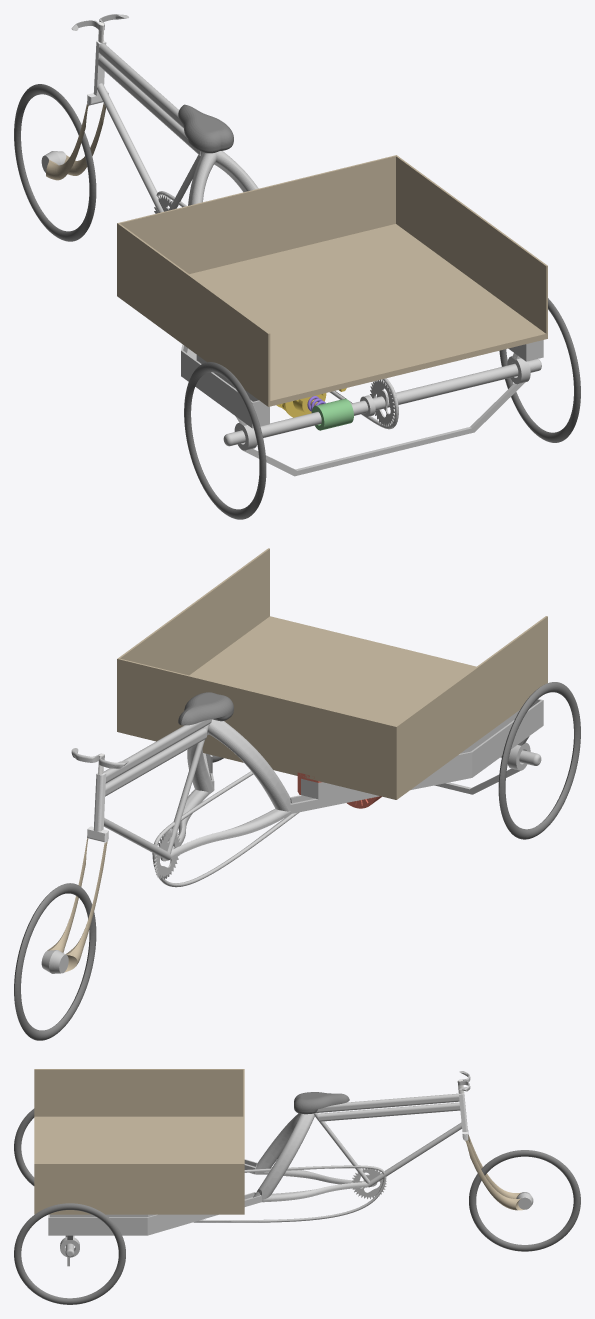
Rendered from direct-motor-drive.glb.
The picture shows the model from 3 angles, top to bottom: view 1: azimuth 30°, elevation 25°; view 2: azimuth 150°, elevation 25°; view 3: azimuth 270°, elevation 25°; orthographic projection. The views are drawn at different scales.
Parts seen in each view (by area): view 1: Node4, Node1, Node2, Node3, Node7; view 2: Node4, Node1, Node2, Node3, Node5; view 3: Node4, Node1, Node2, Node3.
Part boxes in pixels (x1,y1,x2,y2): Node4: [46, 103, 547, 406]; Node1: [41, 14, 543, 446]; Node2: [14, 84, 580, 519]; Node3: [156, 191, 530, 476]; Node7: [311, 398, 353, 430]; Node4: [47, 548, 547, 972]; Node1: [41, 719, 543, 973]; Node2: [14, 682, 580, 1040]; Node3: [152, 699, 543, 887]; Node5: [87, 772, 108, 842]; Node4: [34, 1069, 524, 1214]; Node1: [48, 1071, 533, 1257]; Node2: [14, 1092, 580, 1304]; Node3: [60, 1165, 386, 1266].
Bounding box in the file's own units: 183 × 135 × 405.
